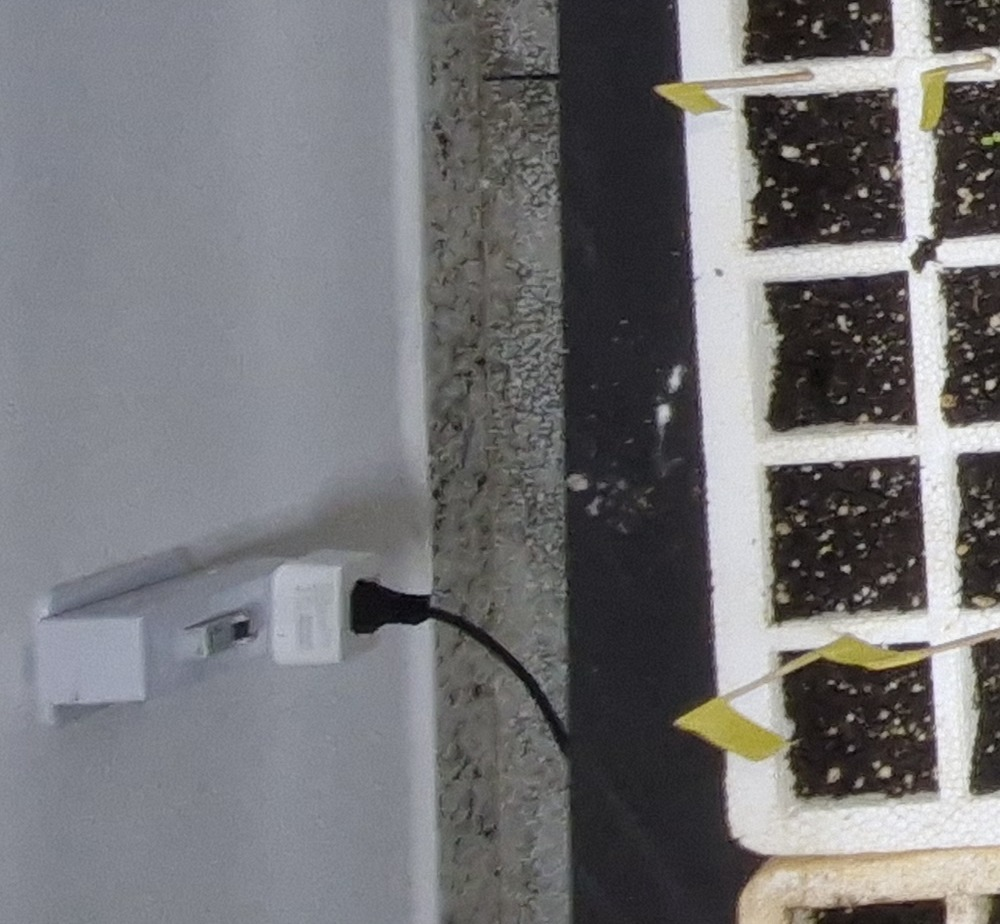Germinacao: (981, 131, 1000, 145)
